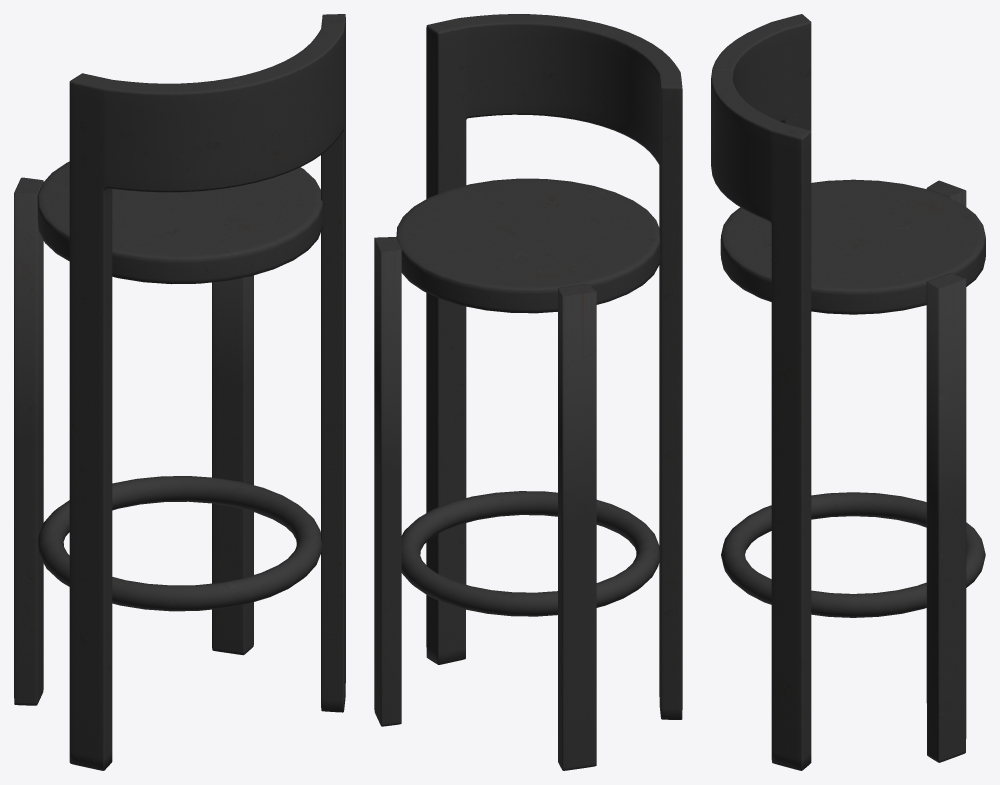
Rendered from Chair25.fbx.
3 views of the same model, side by side, from view 1: azimuth 30°, elevation 25°; view 2: azimuth 150°, elevation 25°; view 3: azimuth 270°, elevation 25° (orthographic). The views are drawn at different scales.
Parts seen in each view (by area): view 1: Chair25; view 2: Chair25; view 3: Chair25.
Part boxes in pixels (bbox=[...]): Chair25: bbox=[14, 14, 345, 770]; Chair25: bbox=[374, 14, 682, 770]; Chair25: bbox=[711, 14, 985, 770].
Size of the model in its own units: 46.58 by 110 by 43.35.
